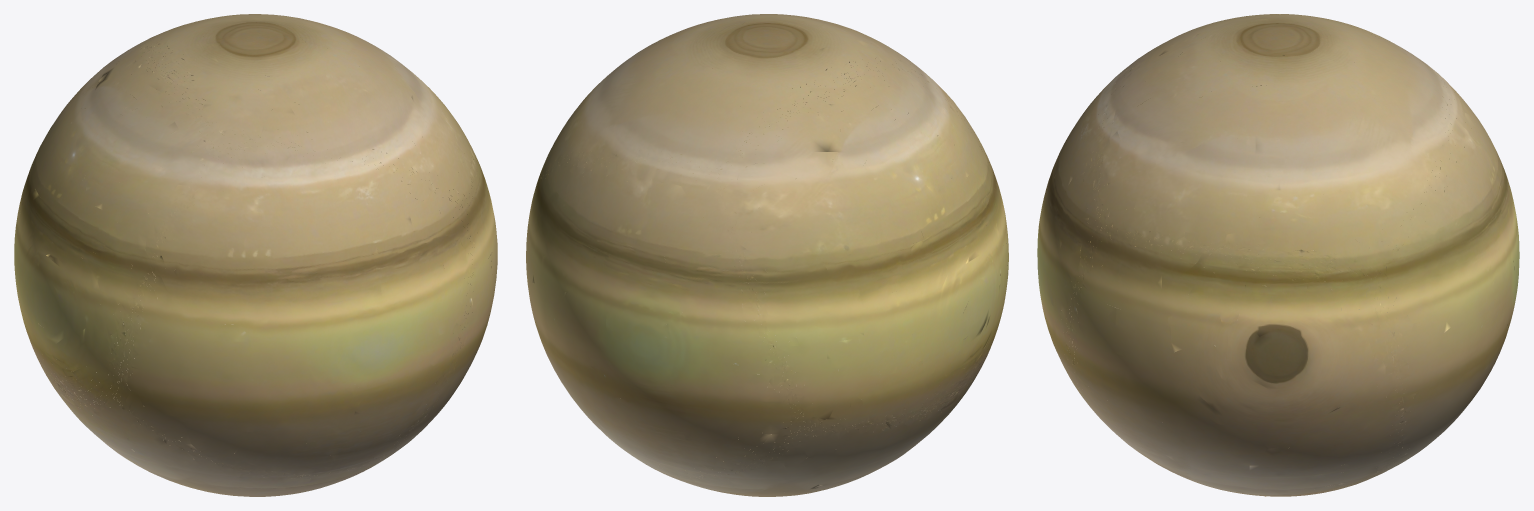
File: SaturnRings(Draco).glb
The picture shows the model from 3 angles, left to right: view 1: azimuth 30°, elevation 25°; view 2: azimuth 150°, elevation 25°; view 3: azimuth 270°, elevation 25°; orthographic projection.
Parts seen in each view (by area): view 1: Mesh_0; view 2: Mesh_0; view 3: Mesh_0.
Part boxes in pixels (x1,y1,x2,y2): Mesh_0: (14,14,497,496); Mesh_0: (526,14,1008,496); Mesh_0: (1037,14,1519,496).
Bounding box in the file's own units: 2 × 2 × 2.
1 material, 1 textured.
